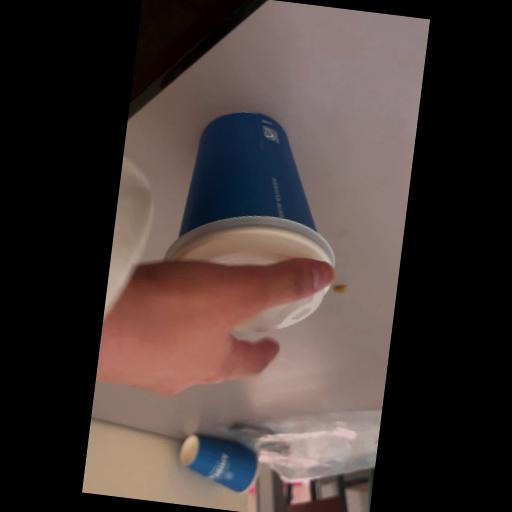lp_paper_cup: (148, 86, 368, 350), (163, 425, 268, 498)
